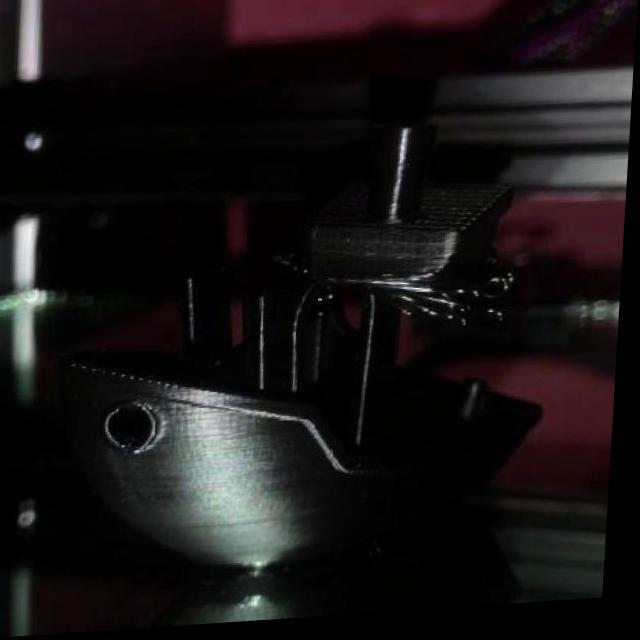spaghetti: (342, 260, 520, 338), (273, 252, 318, 290)
